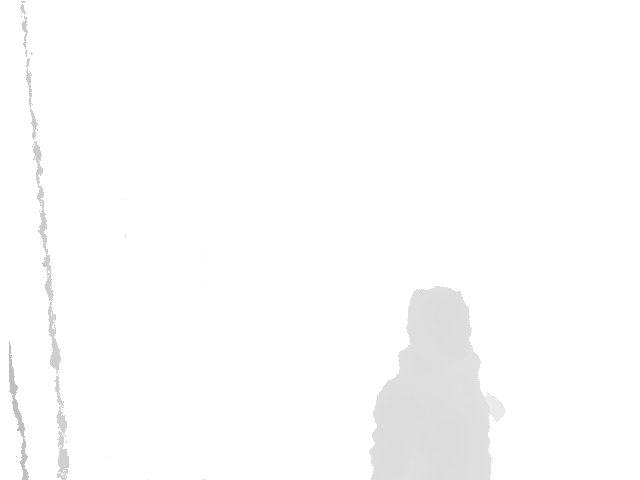head: (407, 285, 473, 365)
person: (368, 285, 506, 480)
